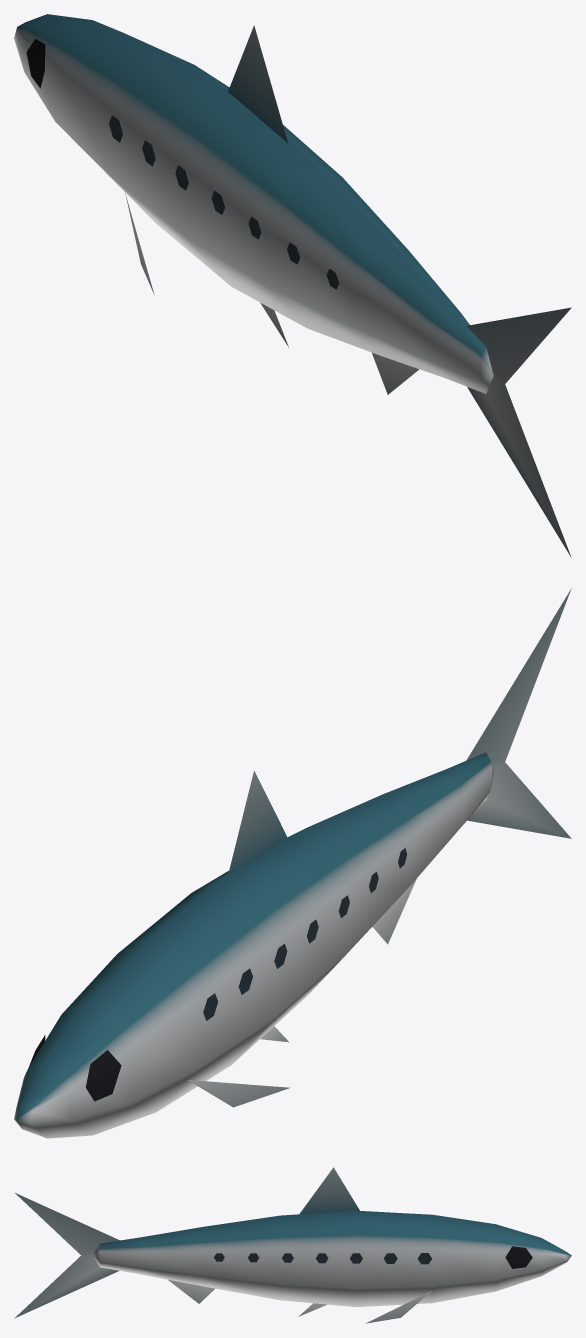
The model's file is sardine_school.glb.
3 renders of one model, top to bottom at view 1: azimuth 30°, elevation 25°; view 2: azimuth 150°, elevation 25°; view 3: azimuth 270°, elevation 25°, orthographic. The views are drawn at different scales.
Visible parts, largest first — view 1: sardine_school; view 2: sardine_school; view 3: sardine_school.
Boxes of the visible parts, bbox=[...] form: sardine_school: bbox=[14, 14, 571, 557]; sardine_school: bbox=[14, 588, 571, 1138]; sardine_school: bbox=[14, 1167, 571, 1323].
Size of the model in its own units: 0.0311 by 0.0659 by 0.22.
